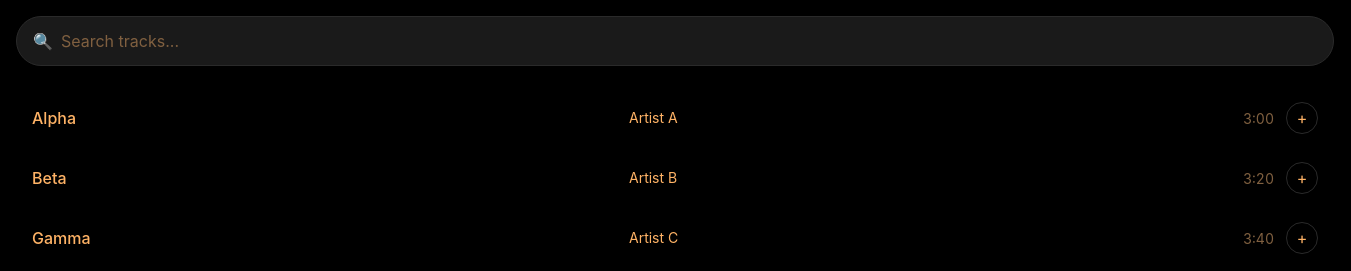
MainContent — no search results (Req 2.3) › shows "No results found" when the search query matches no tracks
The width and height of the screenshot is (1351, 271).
Type "zzzzz" into the field named "Search tracks" at (689, 41), box x1=61 y1=29 x2=1317 y2=53
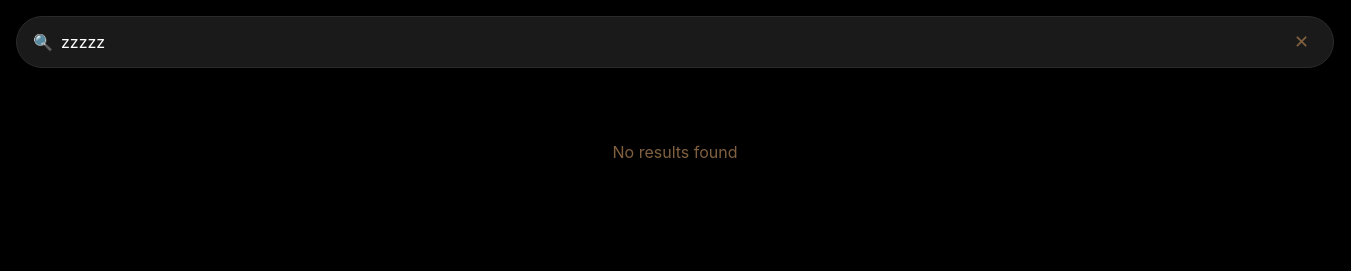
Result: the text "No results found" is shown at x1=612 y1=142 x2=738 y2=162
